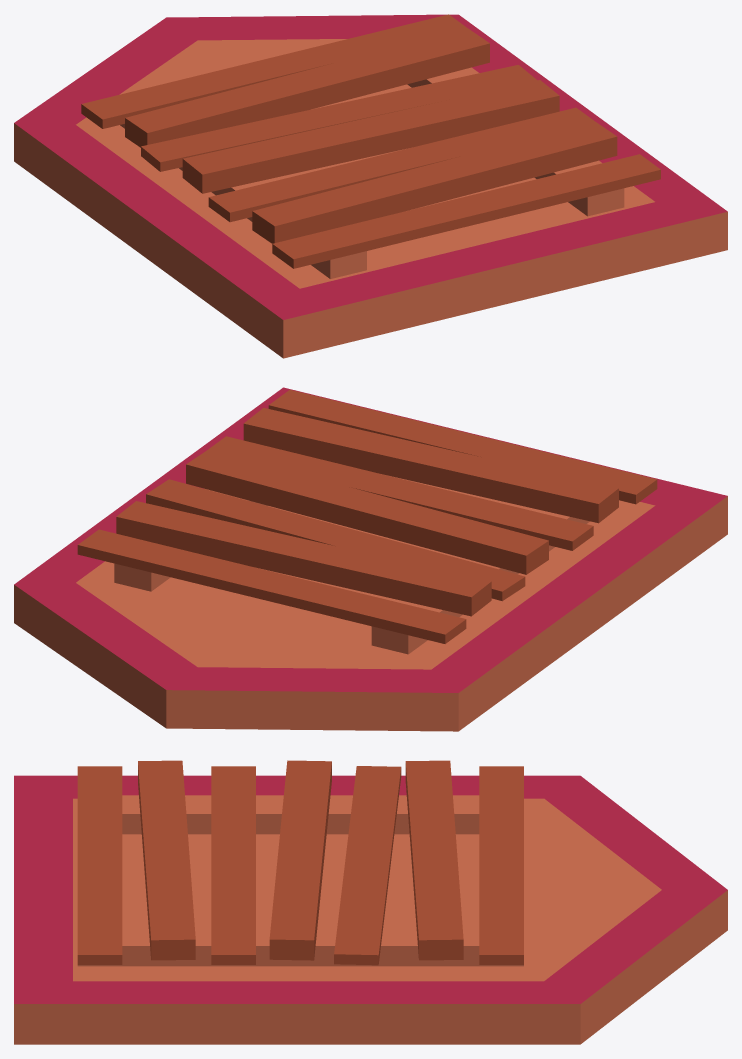
File: jumper.obj
3 views of the same model, one above another, from view 1: azimuth 30°, elevation 25°; view 2: azimuth 150°, elevation 25°; view 3: azimuth 270°, elevation 25° (orthographic). The views are drawn at different scales.
Visible parts, largest first — view 1: mergedBlocks; view 2: mergedBlocks; view 3: mergedBlocks.
Part boxes in pixels (bbox=[...]): mergedBlocks: bbox=[14, 14, 727, 358]; mergedBlocks: bbox=[14, 387, 727, 731]; mergedBlocks: bbox=[14, 760, 727, 1044].
Size of the model in its own units: 1.21 by 0.2 by 1.6.
